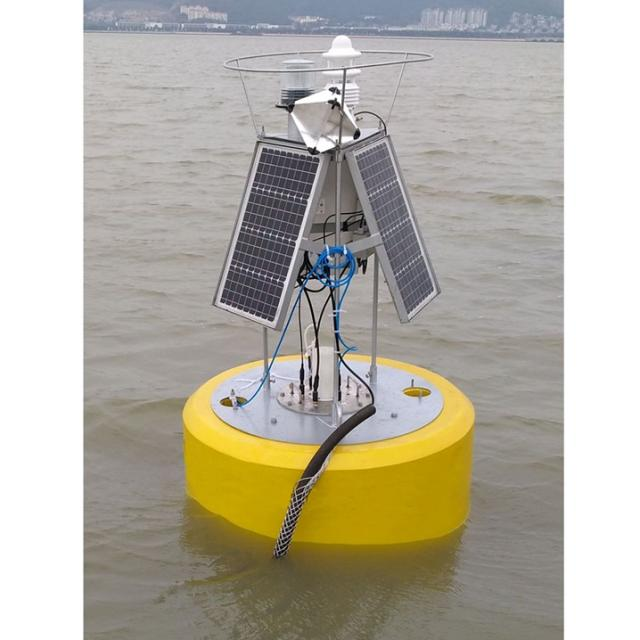buoy: (172, 33, 488, 555)
